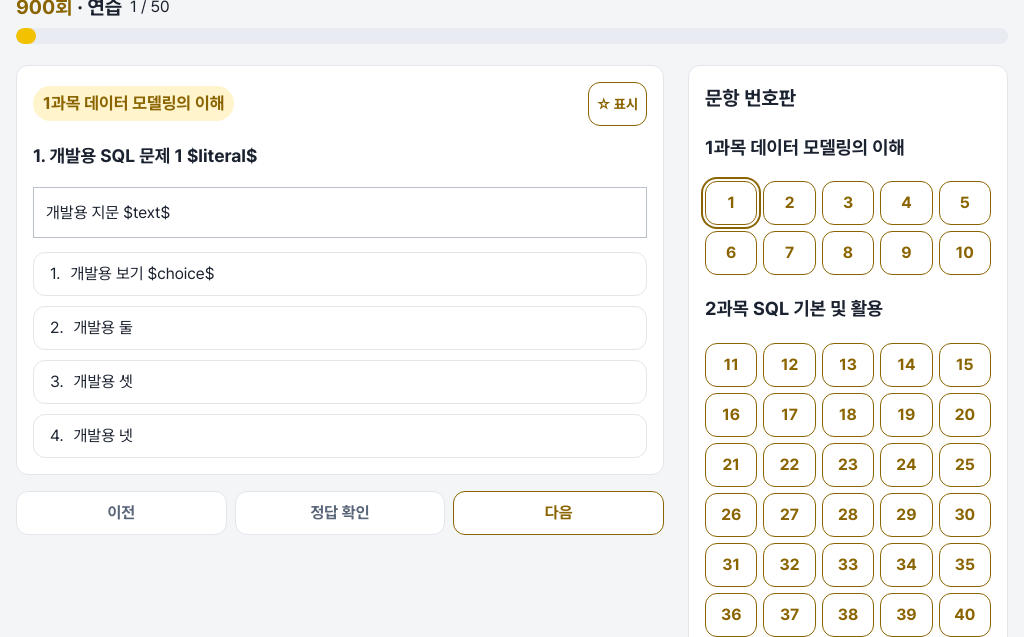
Test case: SQLD related questions stay in SQLD and show frequency
The image size is (1024, 637).
Click the button "1. 개발용 보기 $choice$": (142, 274) 33,252 -> 647,296
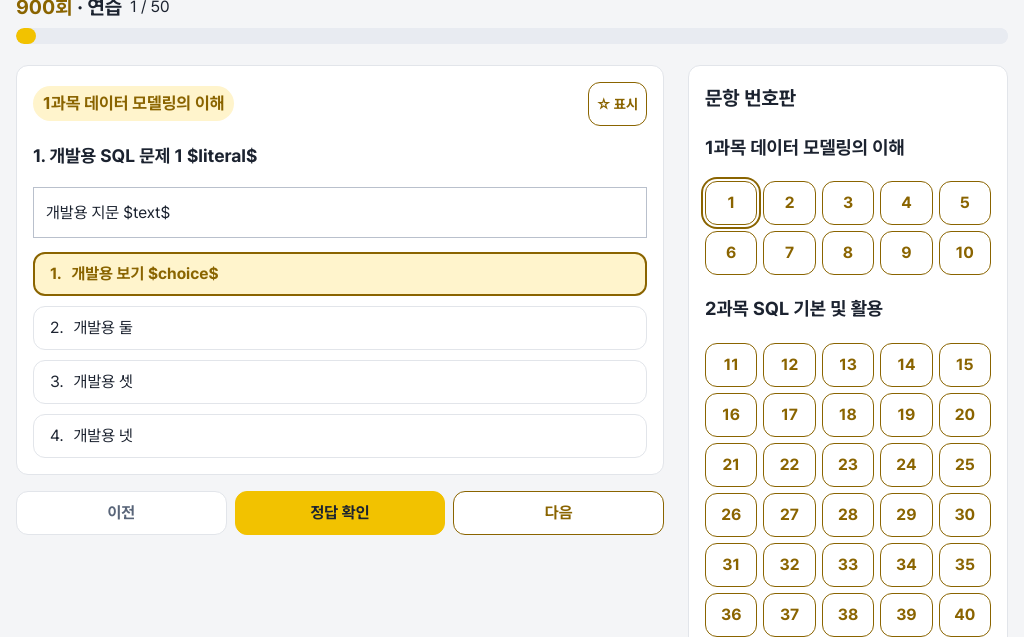
Click the button "정답 확인": (340, 513) 235,491 -> 445,535
(page scrolled)
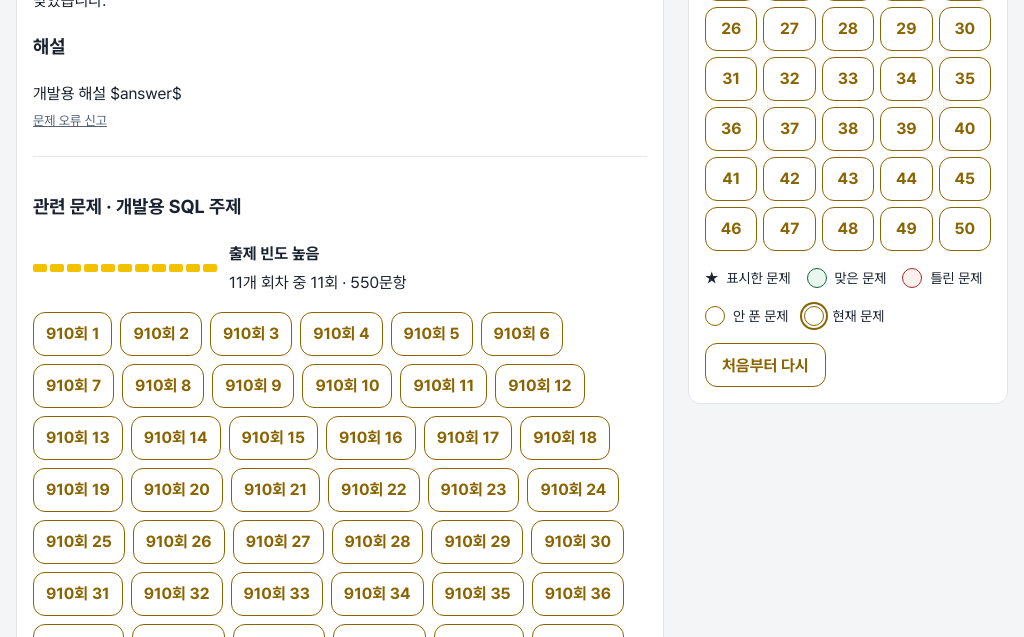
expect the text "11개 회차 중 11회 · 550문항" is shown: met, box 229,270 -> 407,296
